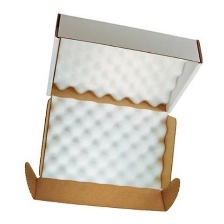foam_box: (36, 93, 173, 193), (46, 33, 193, 109)
